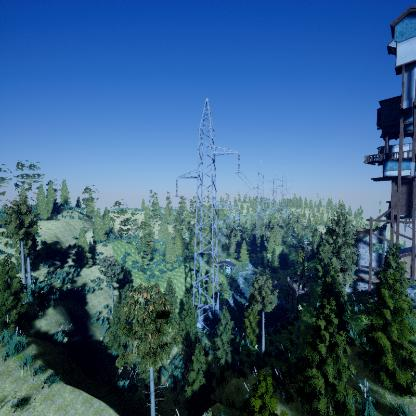tower: (173, 98, 245, 332)
